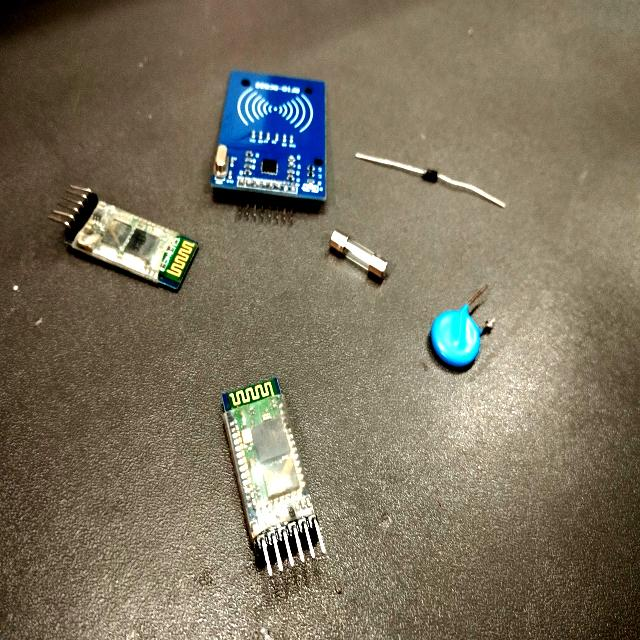capacitor: (427, 309, 481, 375)
